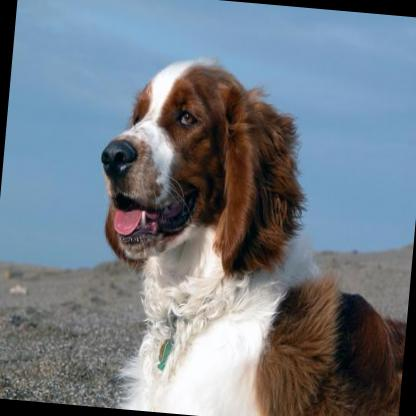Welsh_springer_spaniel: (78, 49, 416, 416)
